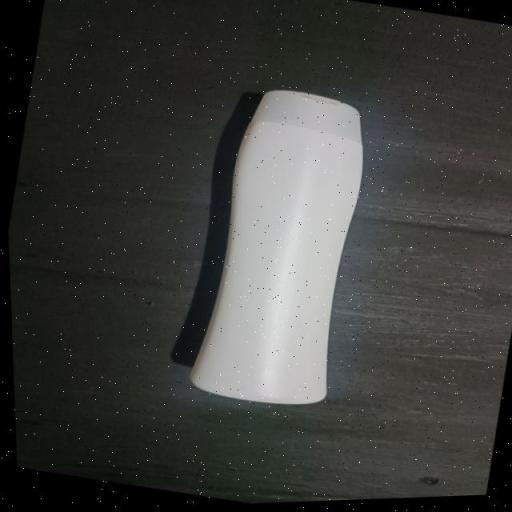plastic: (136, 47, 438, 444)
